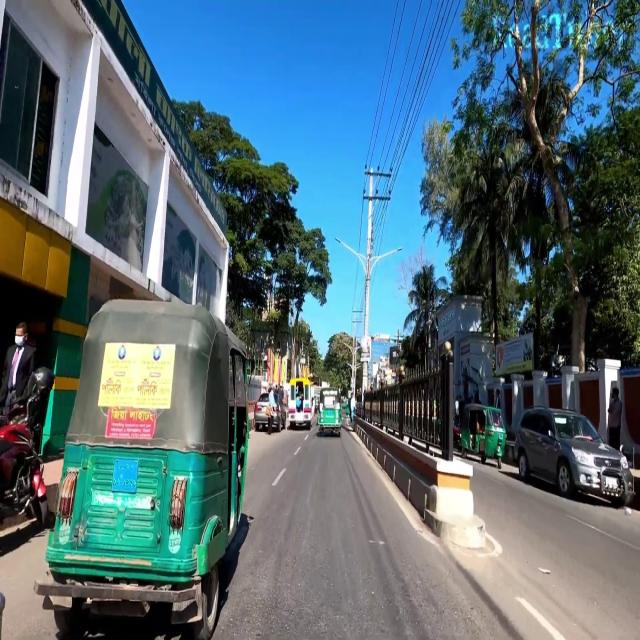black: (519, 399, 639, 515)
